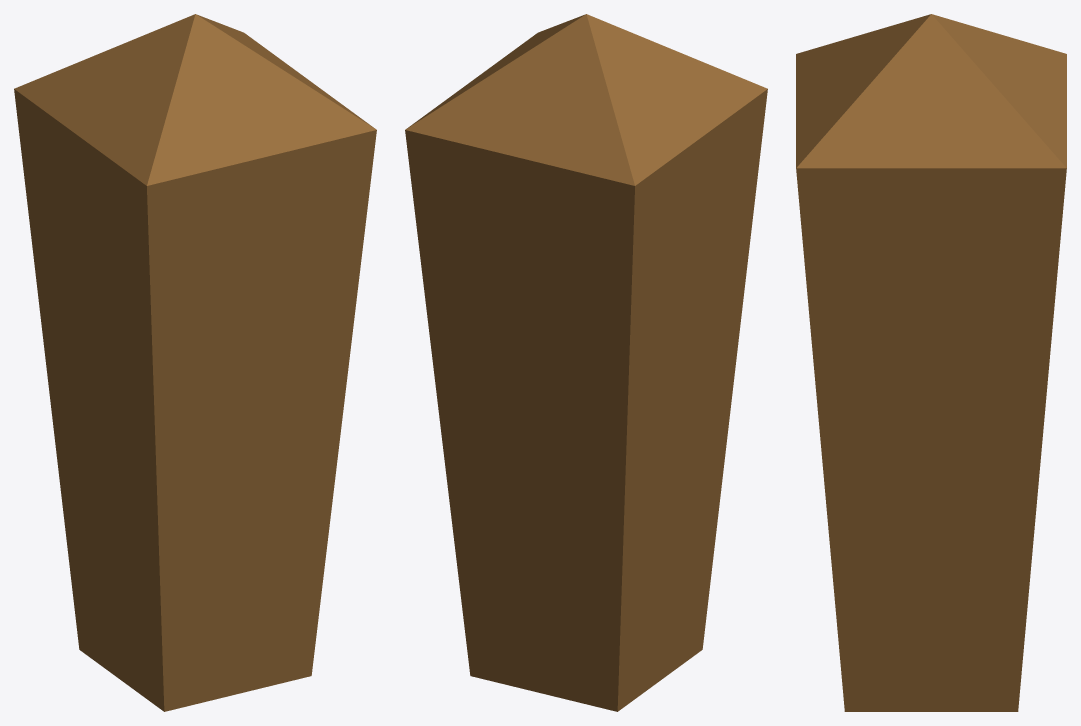
Rendered from wood_fence_01_post.glb.
3 views of the same model, side by side, from view 1: azimuth 30°, elevation 25°; view 2: azimuth 150°, elevation 25°; view 3: azimuth 270°, elevation 25° (orthographic).
Parts seen in each view (by area): view 1: rural_fence_01_post; view 2: rural_fence_01_post; view 3: rural_fence_01_post.
Boxes of the visible parts, <box> form: rural_fence_01_post: <box>14,14,376,711</box>; rural_fence_01_post: <box>405,14,767,711</box>; rural_fence_01_post: <box>796,14,1066,711</box>.
Size of the model in its own units: 0.5622 by 1.51 by 0.5622.
